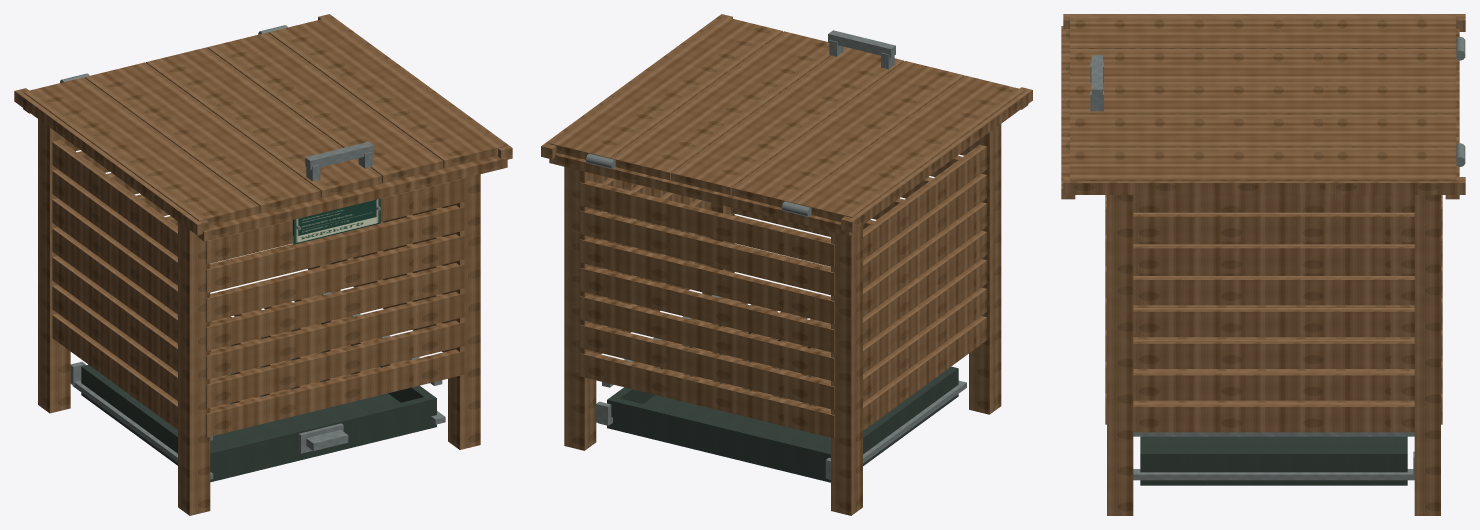
File: PZ_Mossfield_CompostBin_110cm_COMPLETE.glb
3 renders of one model, left to right at view 1: azimuth 30°, elevation 25°; view 2: azimuth 150°, elevation 25°; view 3: azimuth 270°, elevation 25°, orthographic. The views are drawn at different scales.
Parts seen in each view (by area): view 1: LID_TopPlank_02, LID_TopPlank_05, LID_TopPlank_01, LID_TopPlank_04, LID_TopPlank_03, BODY_CornerPost_LEFT_FRONT, BODY_FRONT_Slat_03, BODY_FRONT_Slat_01, BODY_FRONT_Slat_02, BODY_FRONT_Slat_05, BODY_FRONT_Slat_04, BODY_FRONT_Slat_06 (+20 smaller); view 2: LID_TopPlank_02, LID_TopPlank_04, LID_TopPlank_05, LID_TopPlank_01, LID_TopPlank_03, BODY_CornerPost_LEFT_BACK, BODY_BACK_Slat_07, BODY_BACK_Slat_05, BODY_BACK_Slat_06, BODY_BACK_Slat_02, BODY_BACK_Slat_03, BODY_BACK_Slat_01 (+19 smaller); view 3: LID_TopPlank_05, LID_TopPlank_01, LID_TopPlank_04, LID_TopPlank_02, LID_TopPlank_03, BODY_RIGHT_Slat_01, BODY_RIGHT_Slat_04, BODY_CornerPost_RIGHT_BACK, BODY_CornerPost_RIGHT_FRONT, BODY_RIGHT_Slat_02, BODY_RIGHT_Slat_03, BODY_RIGHT_Slat_05 (+18 smaller).
Boxes of the visible parts, left/top/right/bottom form: LID_TopPlank_02: left=85, top=62, right=320, bottom=213; LID_TopPlank_05: left=268, top=17, right=504, bottom=168; LID_TopPlank_01: left=23, top=77, right=259, bottom=225; LID_TopPlank_04: left=207, top=32, right=443, bottom=183; LID_TopPlank_03: left=146, top=47, right=381, bottom=198; BODY_CornerPost_LEFT_FRONT: left=178, top=221, right=210, bottom=515; BODY_FRONT_Slat_03: left=206, top=291, right=464, bottom=379; BODY_FRONT_Slat_01: left=206, top=349, right=464, bottom=437; BODY_FRONT_Slat_02: left=206, top=320, right=464, bottom=408; BODY_FRONT_Slat_05: left=206, top=234, right=464, bottom=321; BODY_FRONT_Slat_04: left=206, top=263, right=464, bottom=350; BODY_FRONT_Slat_06: left=206, top=205, right=464, bottom=293; LID_TopPlank_02: left=731, top=61, right=964, bottom=207; LID_TopPlank_04: left=610, top=31, right=843, bottom=180; LID_TopPlank_05: left=550, top=16, right=782, bottom=159; LID_TopPlank_01: left=792, top=75, right=1025, bottom=221; LID_TopPlank_03: left=671, top=46, right=903, bottom=194; BODY_CornerPost_LEFT_BACK: left=831, top=225, right=862, bottom=515; BODY_BACK_Slat_07: left=579, top=180, right=834, bottom=267; BODY_BACK_Slat_05: left=579, top=237, right=834, bottom=324; BODY_BACK_Slat_06: left=579, top=209, right=834, bottom=295; BODY_BACK_Slat_02: left=579, top=323, right=834, bottom=409; BODY_BACK_Slat_03: left=579, top=294, right=834, bottom=381; BODY_BACK_Slat_01: left=579, top=351, right=834, bottom=438; LID_TopPlank_05: left=1070, top=147, right=1456, bottom=180; LID_TopPlank_01: left=1070, top=15, right=1456, bottom=48; LID_TopPlank_04: left=1070, top=114, right=1456, bottom=147; LID_TopPlank_02: left=1070, top=48, right=1456, bottom=81; LID_TopPlank_03: left=1070, top=81, right=1456, bottom=114; BODY_RIGHT_Slat_01: left=1133, top=402, right=1414, bottom=432; BODY_RIGHT_Slat_04: left=1133, top=307, right=1414, bottom=337; BODY_CornerPost_RIGHT_BACK: left=1414, top=195, right=1440, bottom=515; BODY_CornerPost_RIGHT_FRONT: left=1107, top=195, right=1133, bottom=515; BODY_RIGHT_Slat_02: left=1133, top=371, right=1414, bottom=400; BODY_RIGHT_Slat_03: left=1133, top=339, right=1414, bottom=368; BODY_RIGHT_Slat_05: left=1133, top=276, right=1414, bottom=305.
Size of the model in its own units: 1.14 by 1.15 by 1.16.
4 materials, 4 textured.
